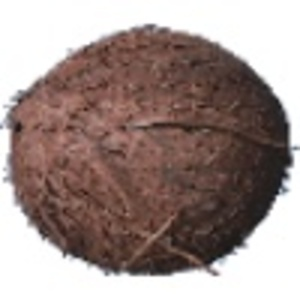coco: (1, 25, 300, 276)
